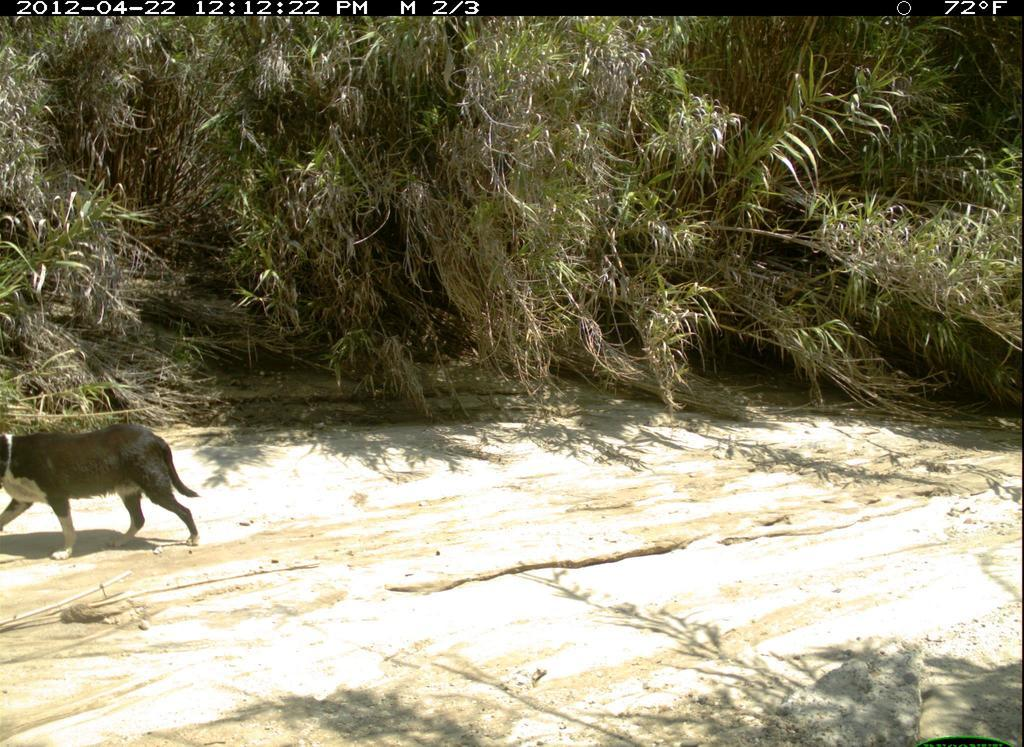dog: (4, 415, 212, 568)
